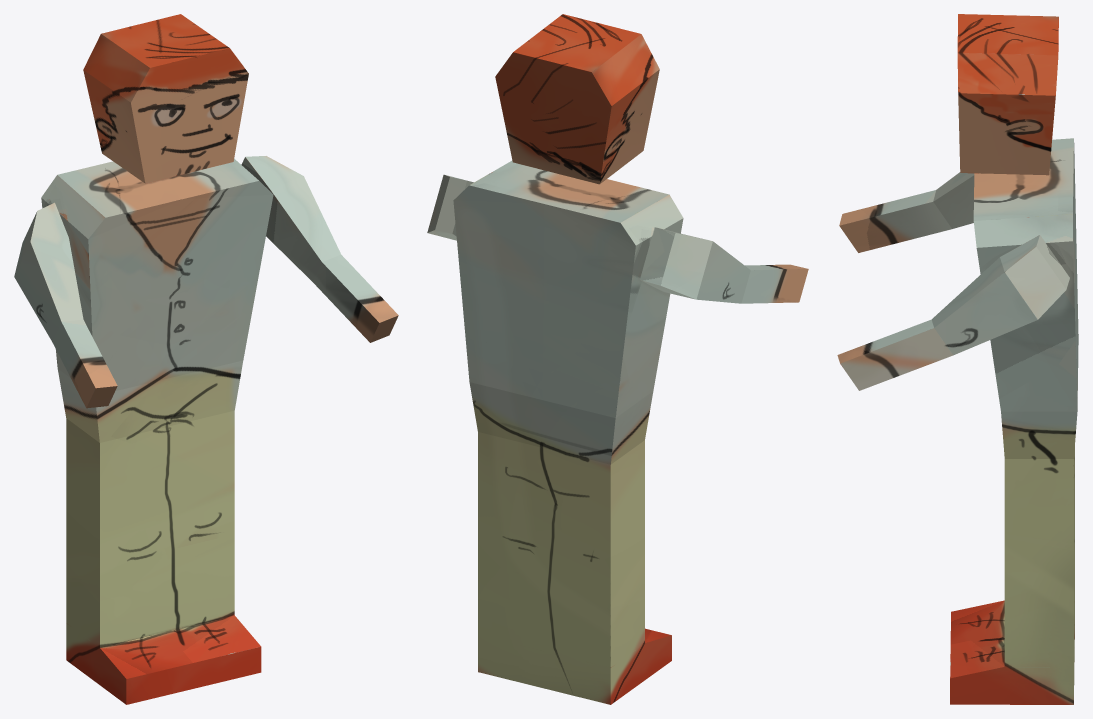
The model's file is human.dae.
3 renders of one model, left to right at view 1: azimuth 30°, elevation 25°; view 2: azimuth 150°, elevation 25°; view 3: azimuth 270°, elevation 25°, orthographic. The views are drawn at different scales.
Visible parts, largest first — view 1: Player_009; view 2: Player_009; view 3: Player_009.
Boxes of the visible parts, <box> form: Player_009: <box>14,14,398,704</box>; Player_009: <box>427,14,808,704</box>; Player_009: <box>837,14,1078,704</box>.
Size of the model in its own units: 1.62 by 1.11 by 3.23.
Materials: 1 (1 with a texture image).
